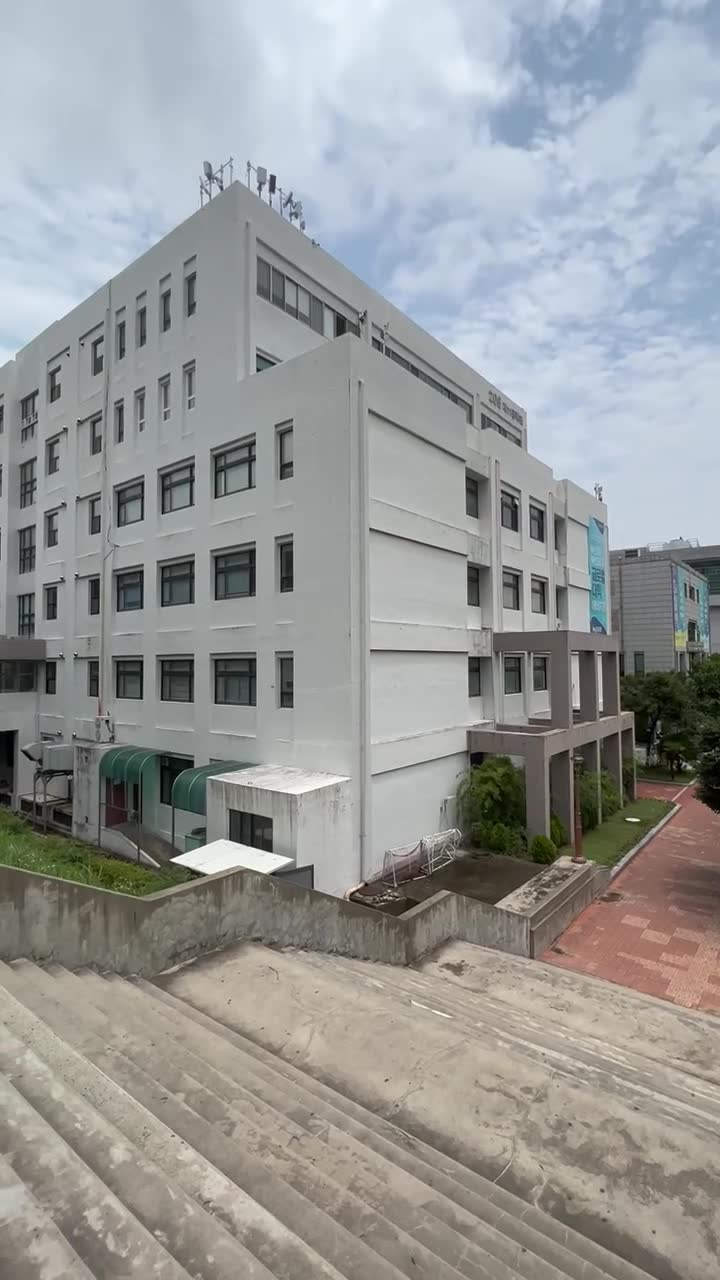medium: (12, 170, 612, 832)
